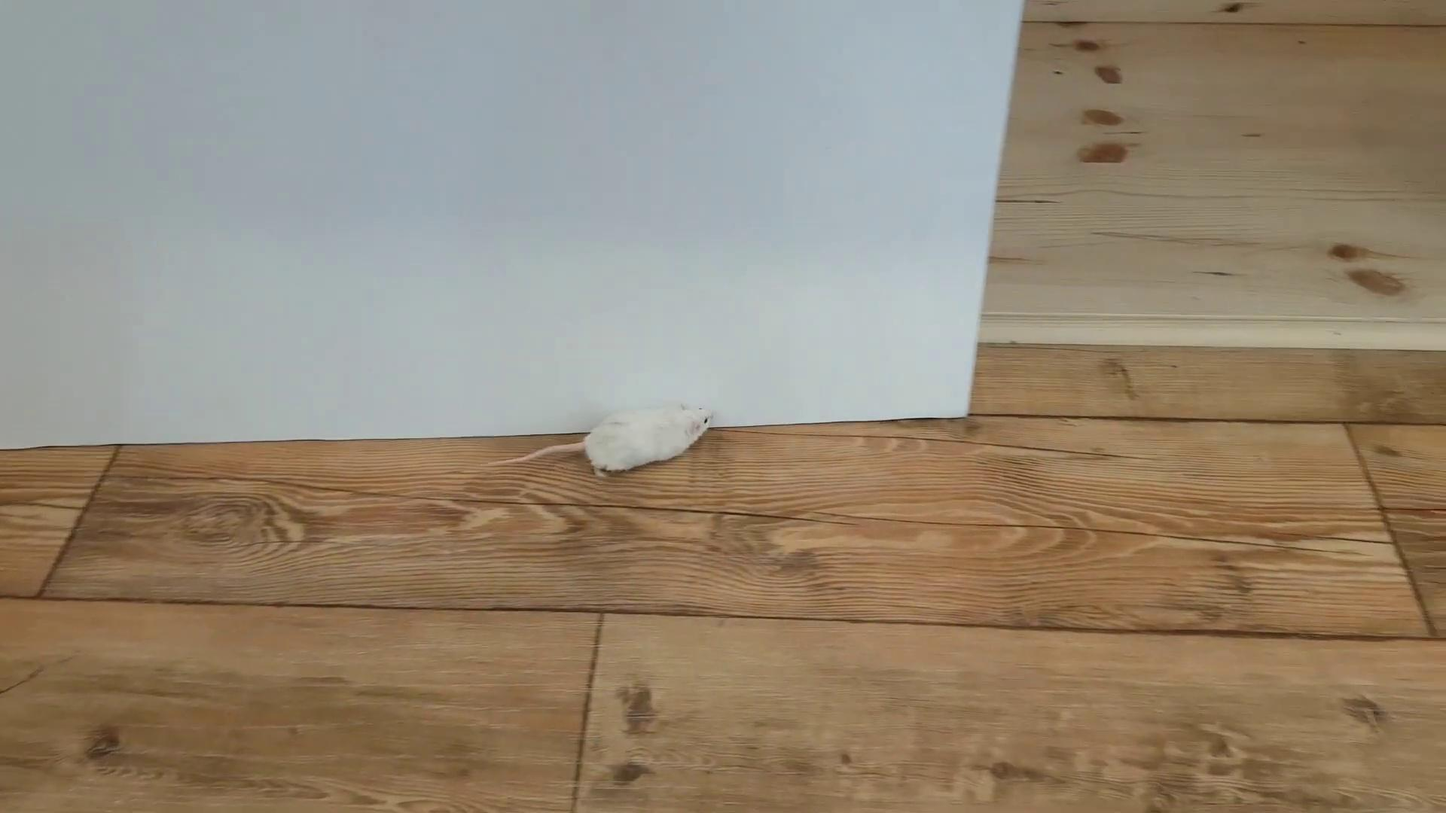rat: (485, 399, 714, 480)
